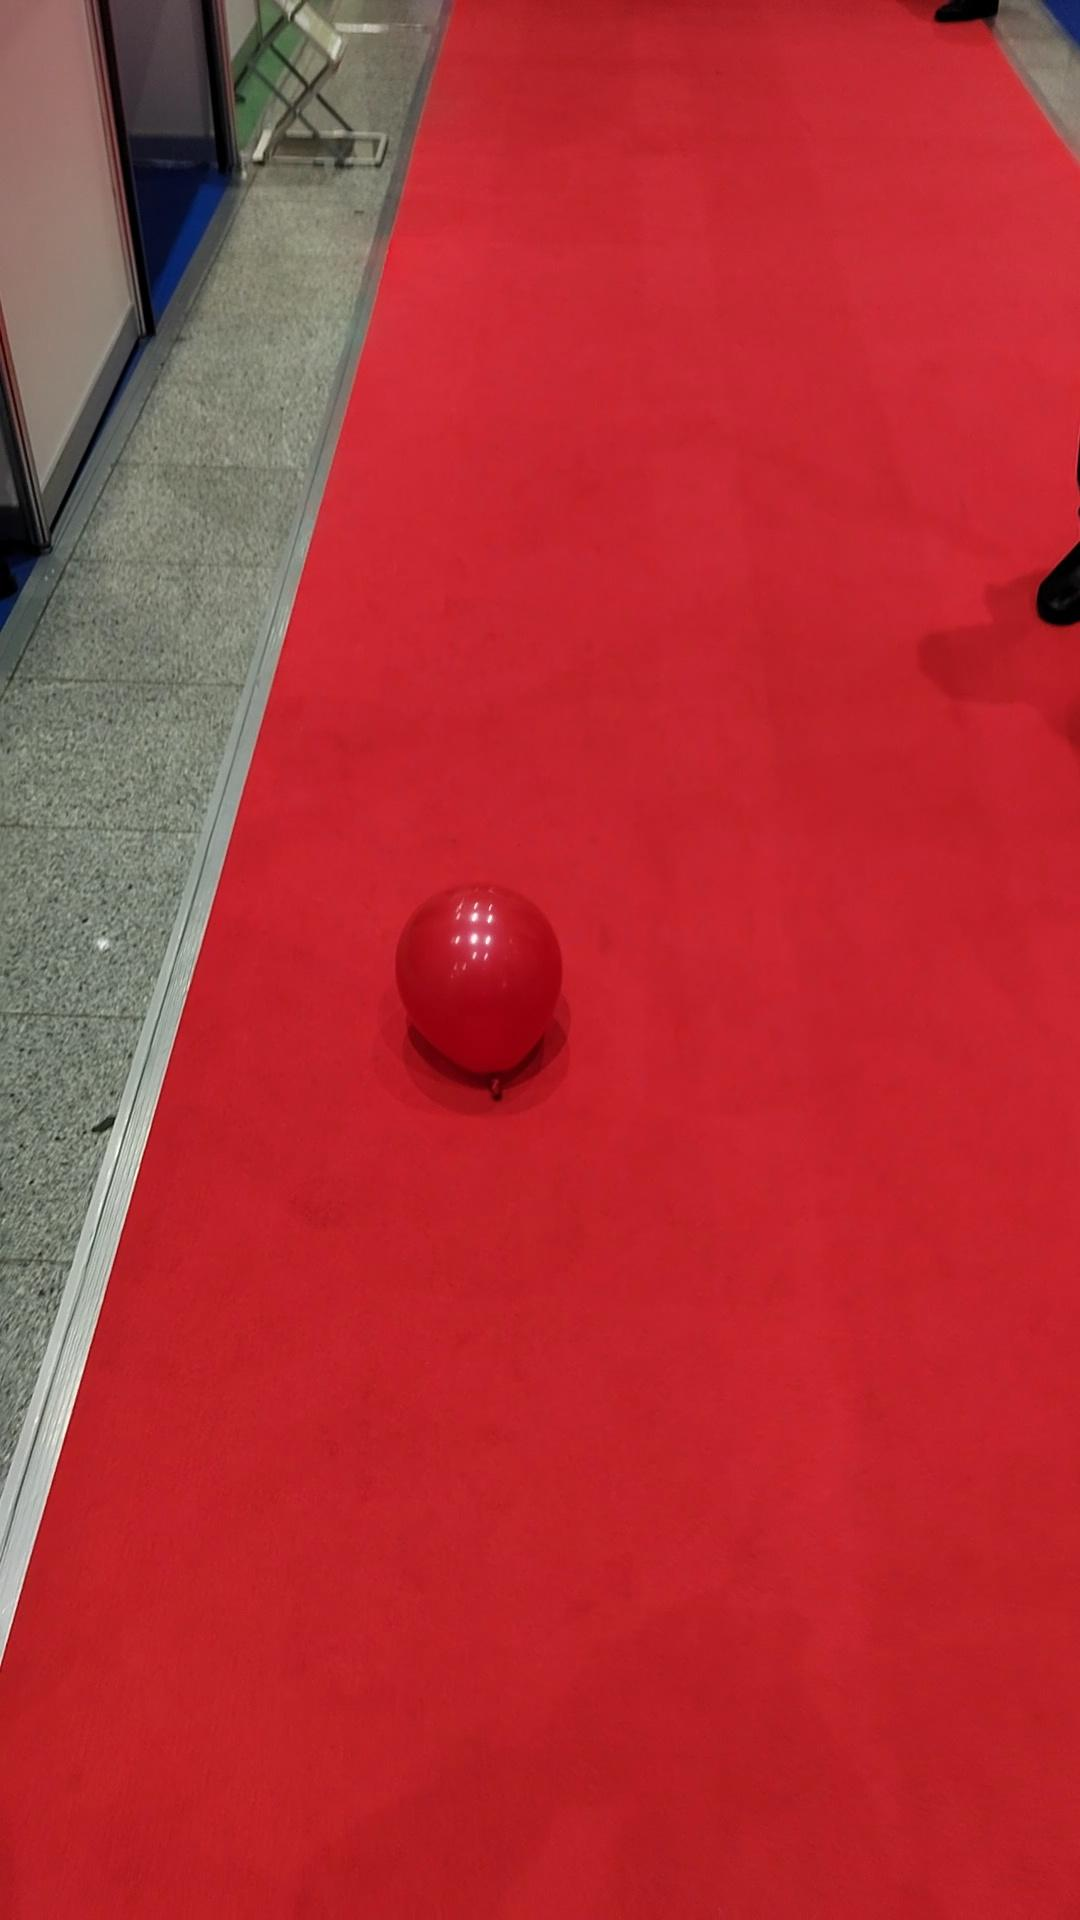red: (397, 877, 566, 1081)
